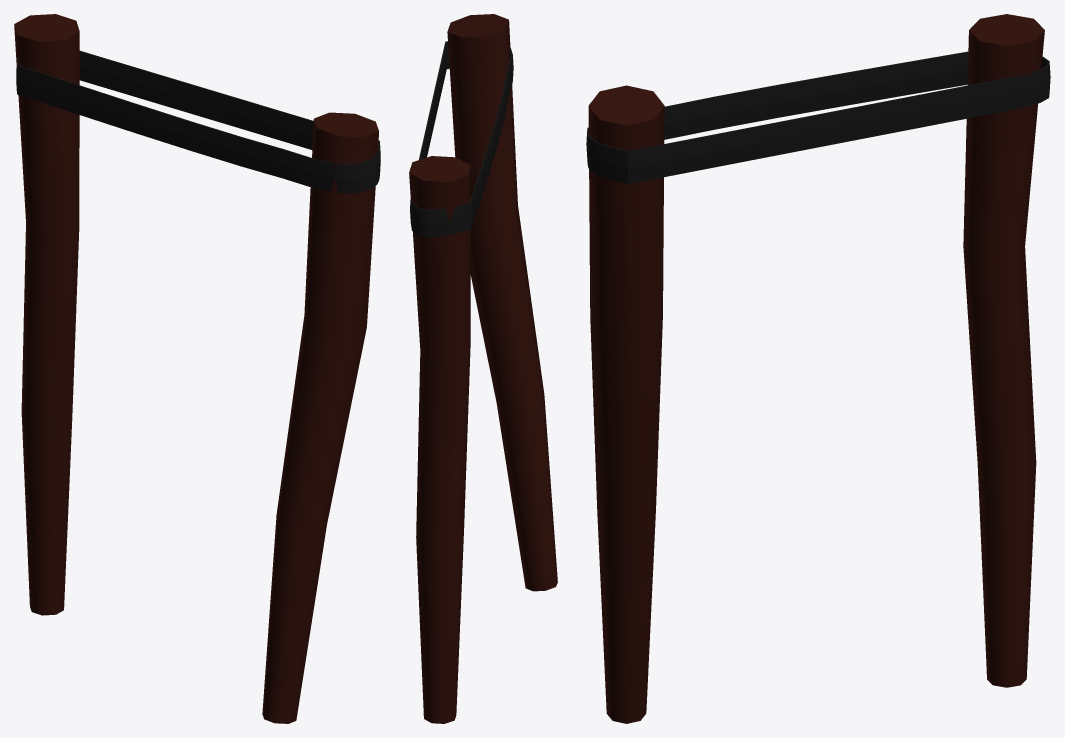
Rendered from TreeFence.fbx.
3 views of the same model, side by side, from view 1: azimuth 30°, elevation 25°; view 2: azimuth 150°, elevation 25°; view 3: azimuth 270°, elevation 25° (orthographic). The views are drawn at different scales.
Parts seen in each view (by area): view 1: Fence3; view 2: Fence3; view 3: Fence3.
Boxes of the visible parts, x1,y1,x2,y2 form: Fence3: [14, 14, 380, 723]; Fence3: [409, 14, 557, 723]; Fence3: [586, 14, 1050, 723].
Size of the model in its own units: 68.34 by 193 by 125.
